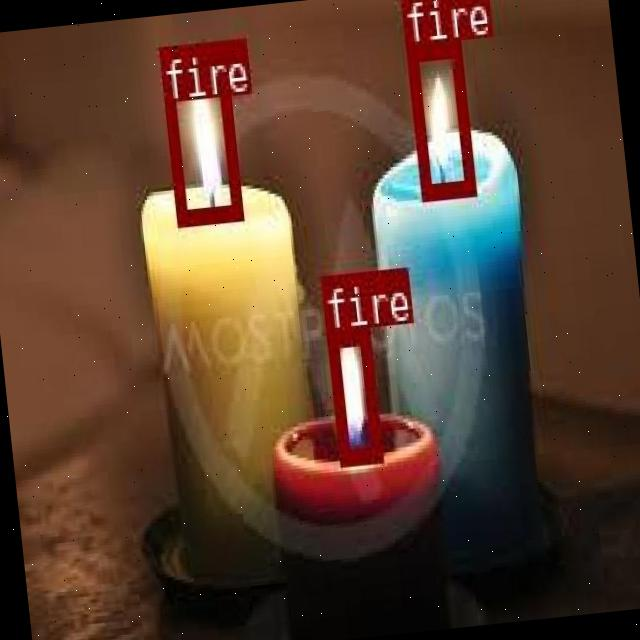fire: (157, 38, 240, 222), (404, 38, 474, 196), (325, 324, 379, 462)
